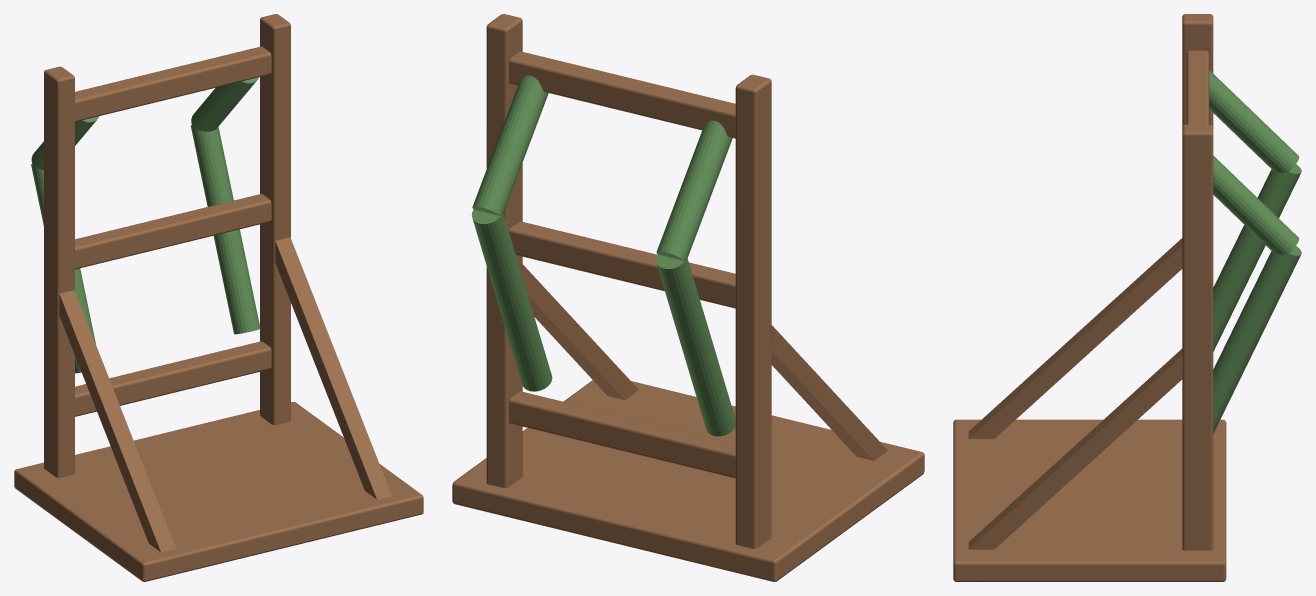
File: tea-garden-and-processing-house-tea-garden-and-process-17114a51__30760.glb
3 renders of one model, left to right at view 1: azimuth 30°, elevation 25°; view 2: azimuth 150°, elevation 25°; view 3: azimuth 270°, elevation 25°, orthographic. The views are drawn at different scales.
Parts seen in each view (by area): view 1: tea-garden-and-processing-house-basket-carrying-frame; view 2: tea-garden-and-processing-house-basket-carrying-frame; view 3: tea-garden-and-processing-house-basket-carrying-frame.
Part boxes in pixels (bbox=[...]): tea-garden-and-processing-house-basket-carrying-frame: bbox=[14, 14, 423, 581]; tea-garden-and-processing-house-basket-carrying-frame: bbox=[452, 14, 924, 581]; tea-garden-and-processing-house-basket-carrying-frame: bbox=[953, 14, 1301, 581].
Size of the model in its own units: 0.6 by 0.85 by 0.6129.
